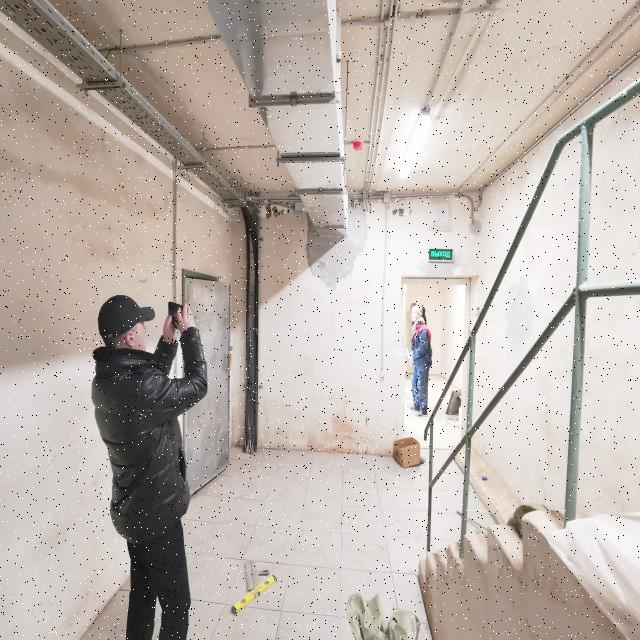NoHelmet: (99, 292, 157, 352), (412, 306, 424, 323), (411, 304, 419, 312)
